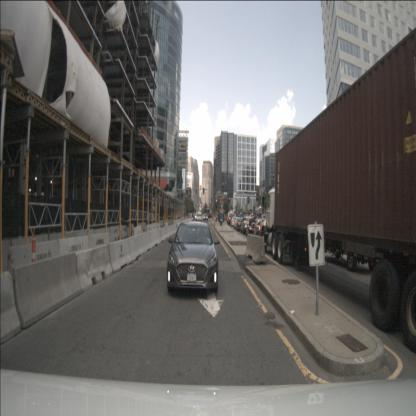barrier: (11, 252, 82, 329), (74, 243, 113, 293), (10, 241, 58, 276), (10, 235, 48, 258), (58, 236, 90, 262), (109, 238, 133, 272), (88, 232, 110, 257), (129, 233, 144, 261), (77, 228, 95, 245), (110, 225, 127, 241), (141, 231, 152, 253), (49, 234, 64, 249), (95, 227, 110, 242), (150, 230, 161, 248), (132, 226, 142, 240), (160, 226, 166, 243)
cone: (27, 227, 41, 295)
